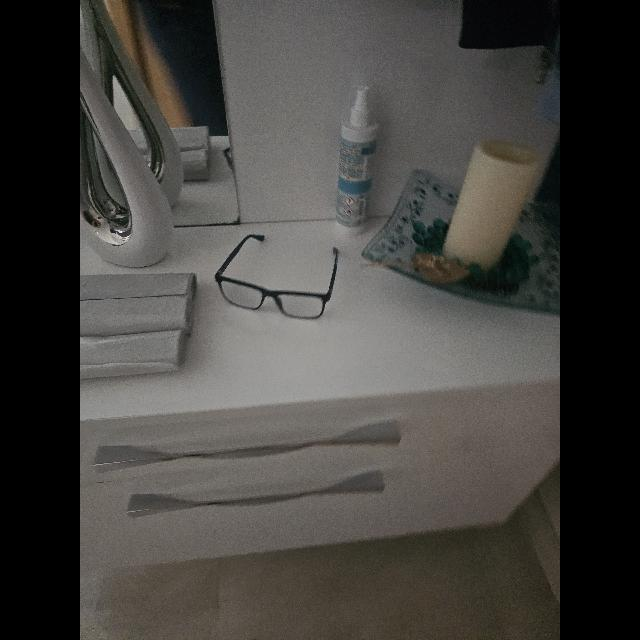glasses: (215, 234, 339, 320)
